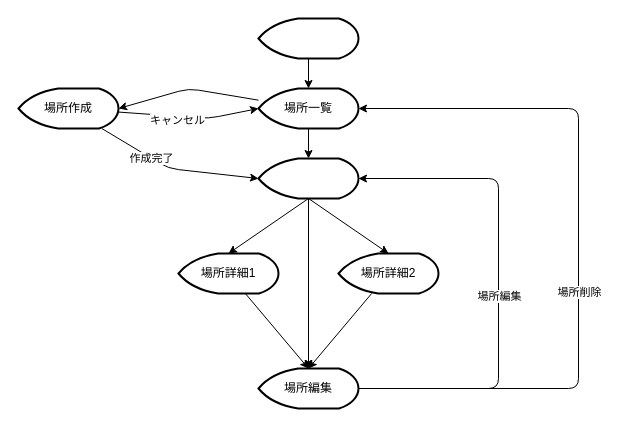
The diagram is 618 pixels wide and 426 high, and some of its shapes have lost their labels. Here are the shapes that lost their labels. From the top down, the centre of each, then its label:
point (308, 38): ログイン
point (308, 178): 場所詳細目次
